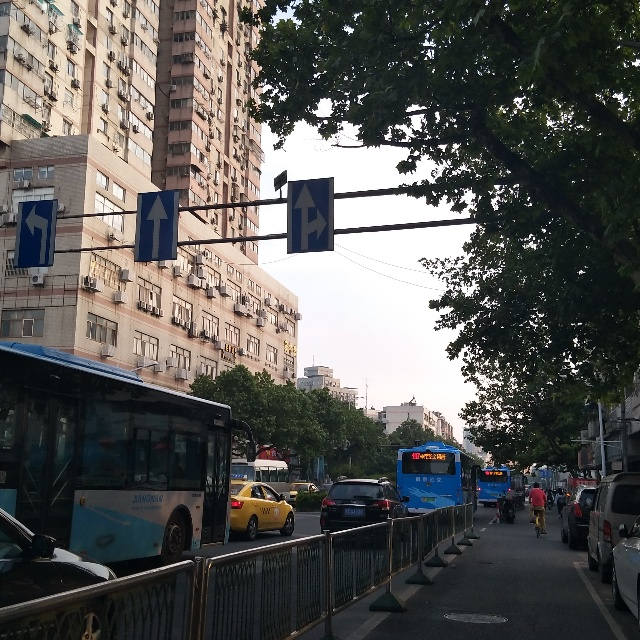left: (19, 201, 52, 269)
straight: (138, 194, 174, 258)
